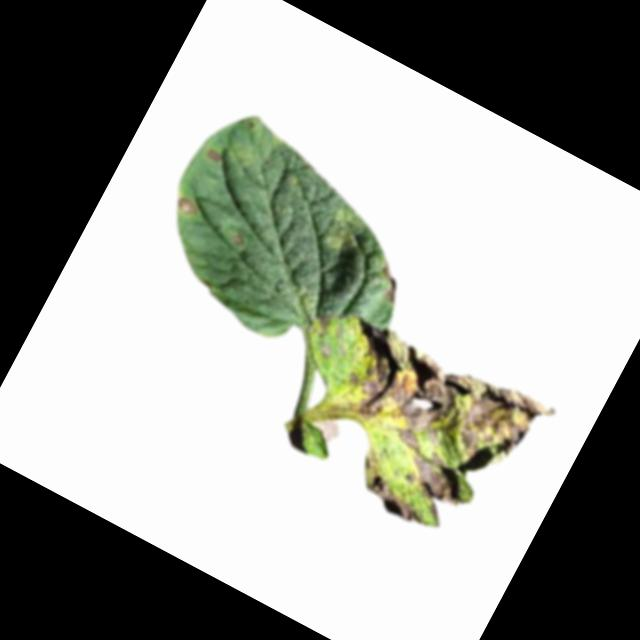Early_blight: (296, 307, 557, 541), (344, 448, 443, 534), (369, 258, 410, 302), (171, 190, 201, 218), (312, 310, 335, 337), (204, 146, 223, 163)
